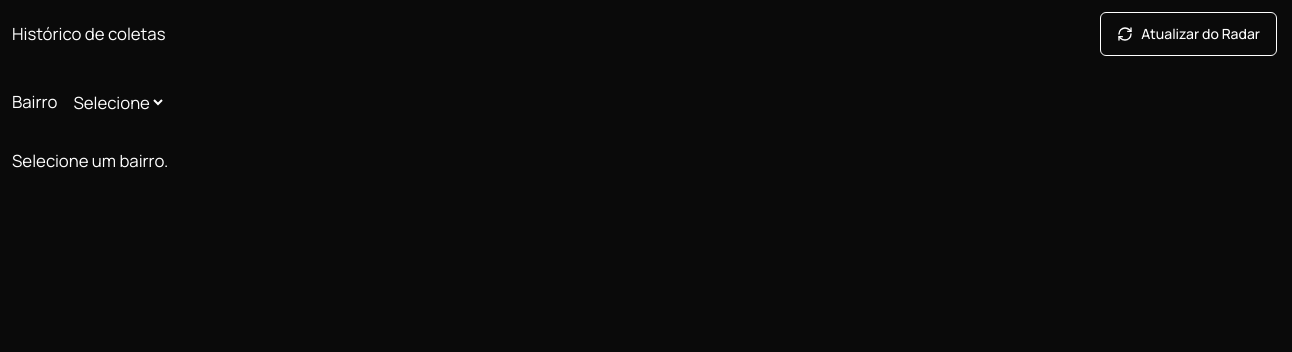
Test case: relê o bairro pelo aviso e preserva ativa/substituída da fonte
Select "Pinheiros" in the dropdown at coordinates (118, 102), box [69,80,166,124]
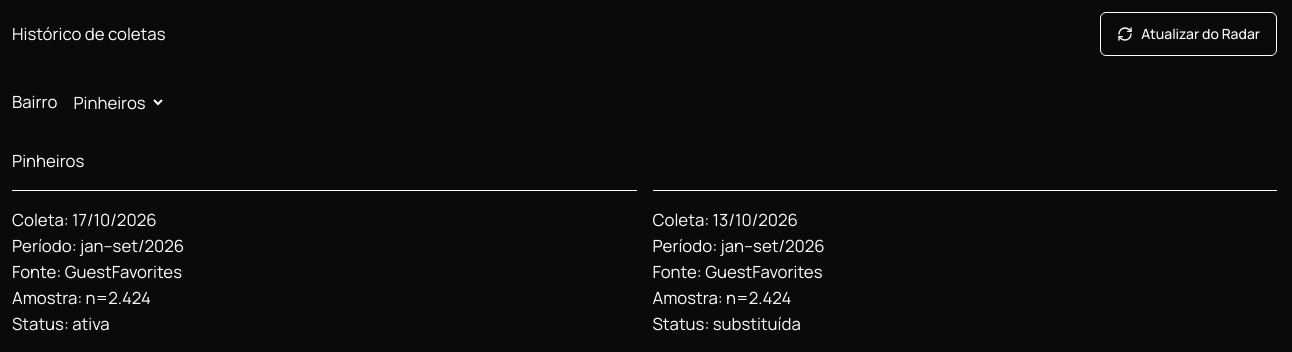
Check: the list item "17/10/2026" shows "Status: ativa", box [12,208,184,335]
Check: the list item "13/10/2026" shows "Status: substituída", box [652,208,825,335]
